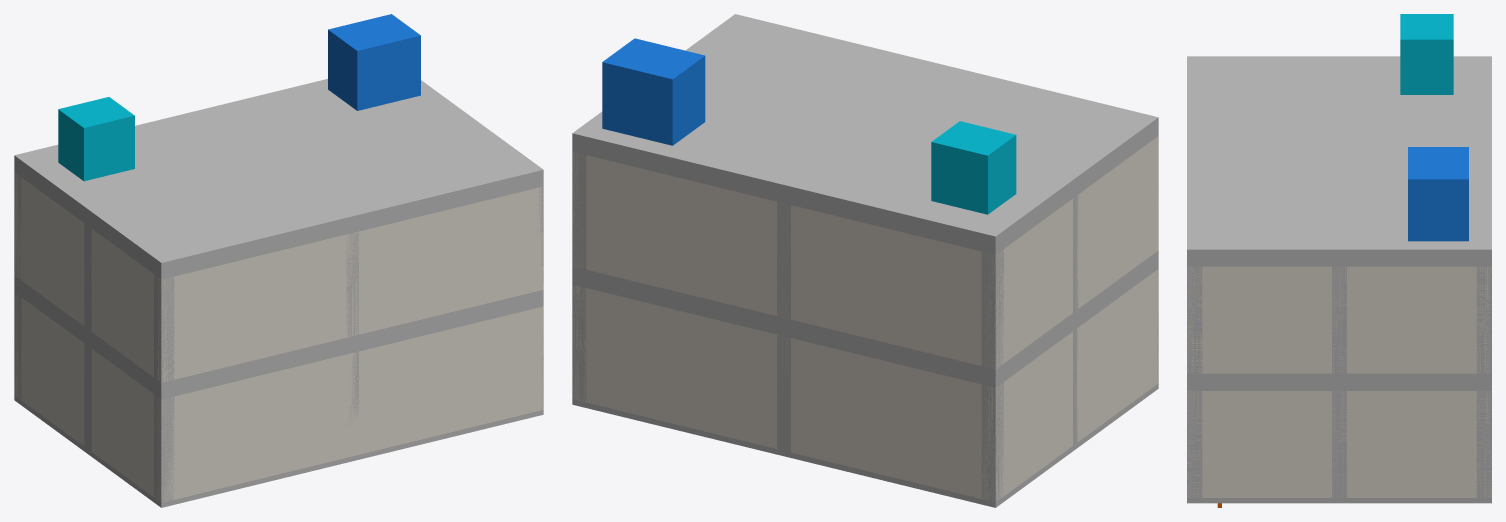
The model's file is ToaNha_BIM_MEP_12x8m.obj.
3 renders of one model, left to right at view 1: azimuth 30°, elevation 25°; view 2: azimuth 150°, elevation 25°; view 3: azimuth 270°, elevation 25°, orthographic. The views are drawn at different scales.
Parts seen in each view (by area): view 1: SLAB_ROOF, WALL_FRONT_Tang_1, WALL_FRONT_Tang_2, WALL_LEFT_Tang_2, WALL_LEFT_Tang_1, BEAM_X_Tang_2_0, EQUIP_WATER_TANK_ROOF, BEAM_X_Tang_1_0, HVAC_OUTDOOR_VRV, BEAM_Y_Tang_2_0, SLAB_Tang_1, BEAM_Y_Tang_1_0 (+10 smaller); view 2: SLAB_ROOF, WALL_BACK_Tang_1, WALL_BACK_Tang_2, WALL_LEFT_Tang_1, WALL_LEFT_Tang_2, BEAM_X_Tang_2_7700, EQUIP_WATER_TANK_ROOF, BEAM_X_Tang_1_7700, HVAC_OUTDOOR_VRV, BEAM_Y_Tang_2_0, SLAB_Tang_1, BEAM_Y_Tang_1_0 (+11 smaller); view 3: SLAB_ROOF, WALL_RIGHT_Tang_2, WALL_RIGHT_Tang_1, BEAM_Y_Tang_2_11700, EQUIP_WATER_TANK_ROOF, BEAM_Y_Tang_1_11700, HVAC_OUTDOOR_VRV, BEAM_X_Tang_2_7700, BEAM_X_Tang_2_4000, BEAM_X_Tang_2_0, SLAB_Tang_1, COL_Tang_2_12000_0 (+11 smaller).
Part boxes in pixels (<box>): SLAB_ROOF: <box>15,79,543,263</box>; WALL_FRONT_Tang_1: <box>157,306,543,502</box>; WALL_FRONT_Tang_2: <box>157,187,543,381</box>; WALL_LEFT_Tang_2: <box>14,175,167,382</box>; WALL_LEFT_Tang_1: <box>14,293,166,500</box>; BEAM_X_Tang_2_0: <box>156,168,543,279</box>; EQUIP_WATER_TANK_ROOF: <box>328,14,420,110</box>; BEAM_X_Tang_1_0: <box>156,290,543,399</box>; HVAC_OUTDOOR_VRV: <box>58,97,134,181</box>; BEAM_Y_Tang_2_0: <box>14,153,170,278</box>; SLAB_Tang_1: <box>14,395,543,507</box>; BEAM_Y_Tang_1_0: <box>14,275,170,399</box>; SLAB_ROOF: <box>577,15,1158,238</box>; WALL_BACK_Tang_1: <box>572,285,997,501</box>; WALL_BACK_Tang_2: <box>572,152,997,368</box>; WALL_LEFT_Tang_1: <box>988,269,1158,500</box>; WALL_LEFT_Tang_2: <box>988,136,1158,367</box>; BEAM_X_Tang_2_7700: <box>572,129,1001,254</box>; EQUIP_WATER_TANK_ROOF: <box>602,38,705,145</box>; BEAM_X_Tang_1_7700: <box>572,266,999,387</box>; HVAC_OUTDOOR_VRV: <box>931,121,1016,214</box>; BEAM_Y_Tang_2_0: <box>985,117,1158,254</box>; SLAB_Tang_1: <box>572,383,1158,507</box>; BEAM_Y_Tang_1_0: <box>985,251,1158,387</box>; SLAB_ROOF: <box>1187,56,1491,254</box>; WALL_RIGHT_Tang_2: <box>1187,266,1491,373</box>; WALL_RIGHT_Tang_1: <box>1187,391,1491,497</box>; BEAM_Y_Tang_2_11700: <box>1187,244,1491,266</box>; EQUIP_WATER_TANK_ROOF: <box>1408,147,1468,241</box>; BEAM_Y_Tang_1_11700: <box>1187,373,1491,390</box>; HVAC_OUTDOOR_VRV: <box>1400,14,1453,94</box>; BEAM_X_Tang_2_7700: <box>1480,56,1491,266</box>; BEAM_X_Tang_2_4000: <box>1339,56,1350,266</box>; BEAM_X_Tang_2_0: <box>1187,56,1198,266</box>; SLAB_Tang_1: <box>1187,498,1491,503</box>; COL_Tang_2_12000_0: <box>1187,266,1202,373</box>.
Bounding box in the file's own units: 12 × 9.38 × 8.
